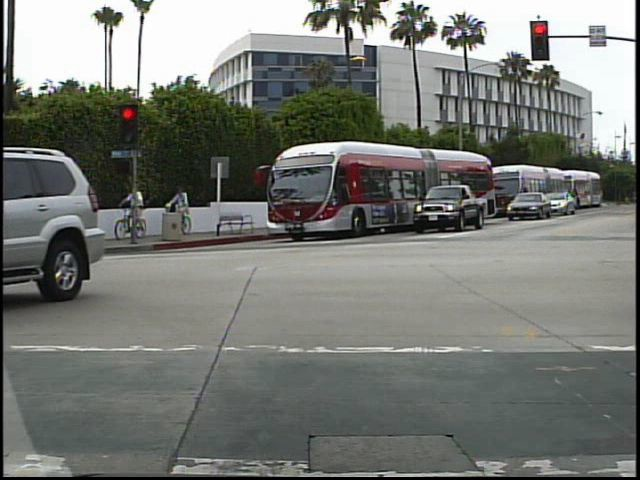person: (170, 183, 197, 238)
